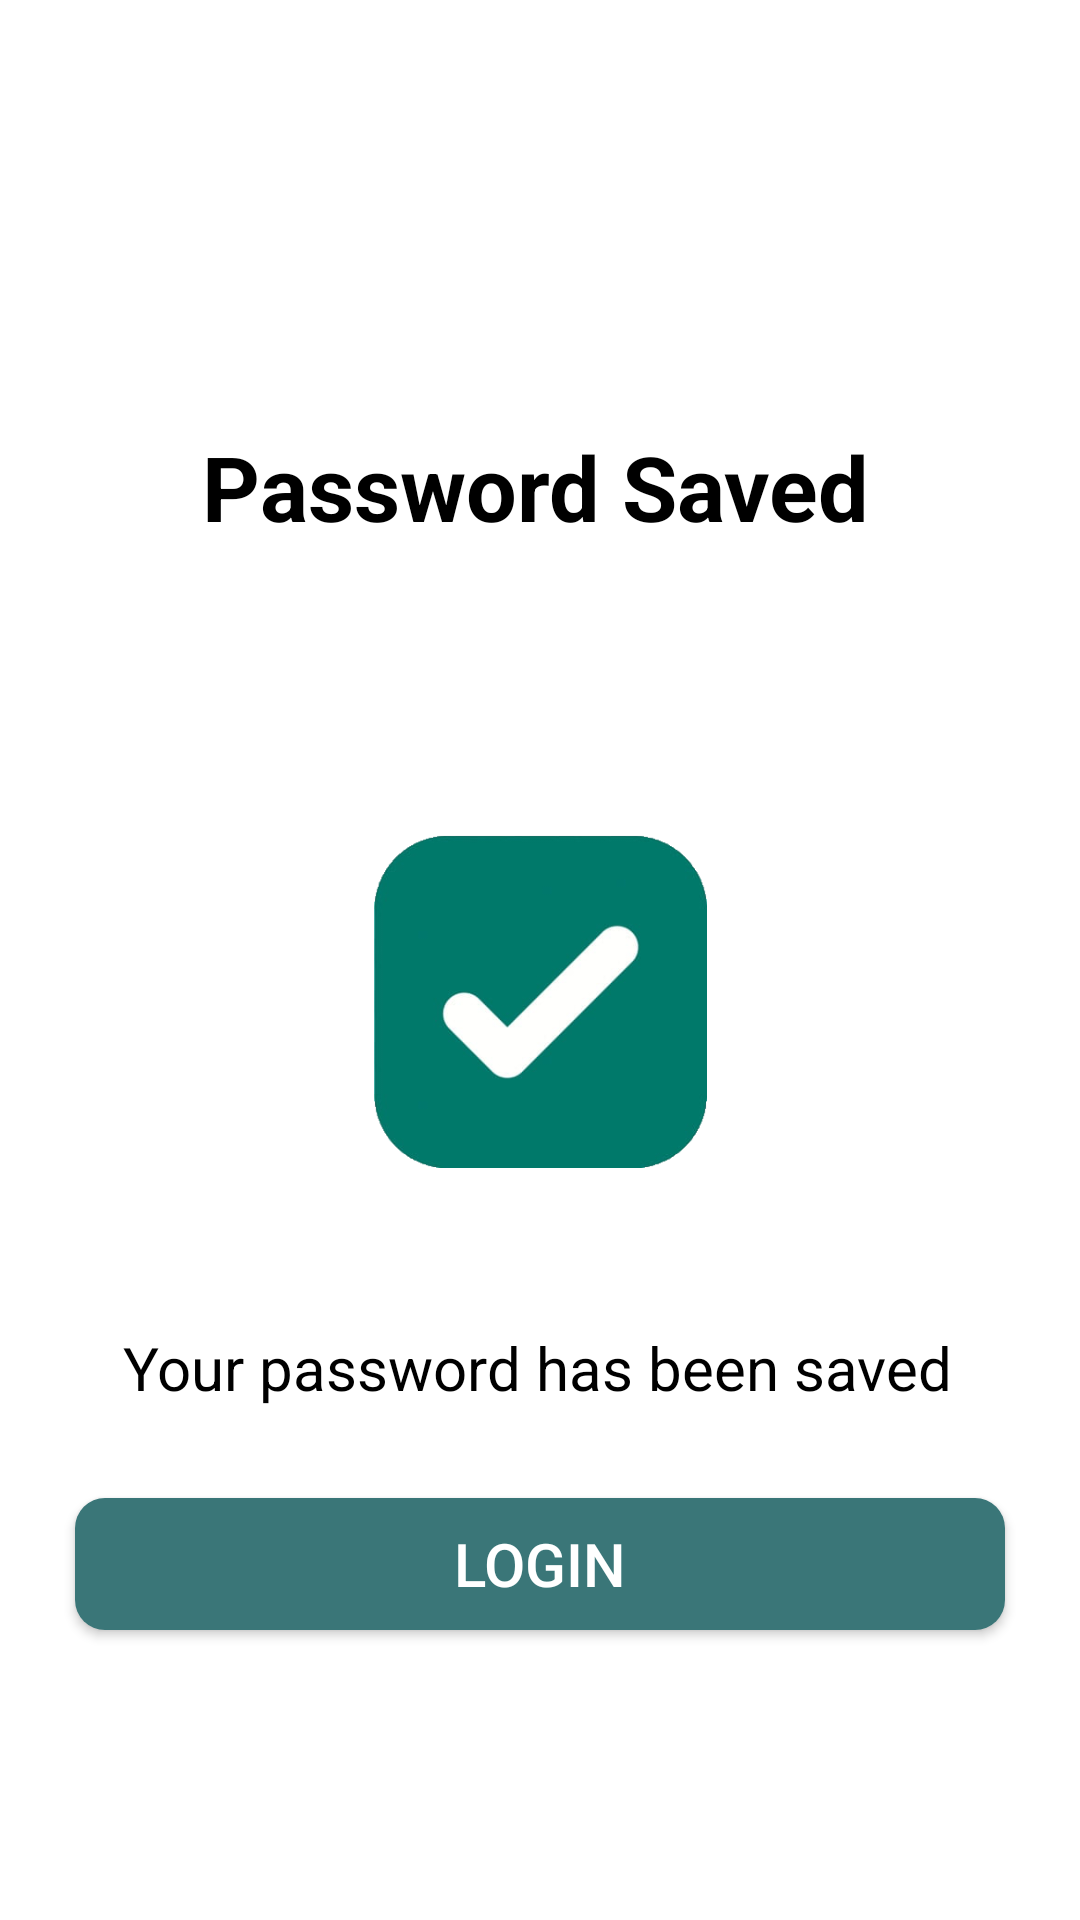

Point at icon controls on the screen. Image size 1080w x 1920h, points as point (x, y).
tickmark: point (540, 1002)
